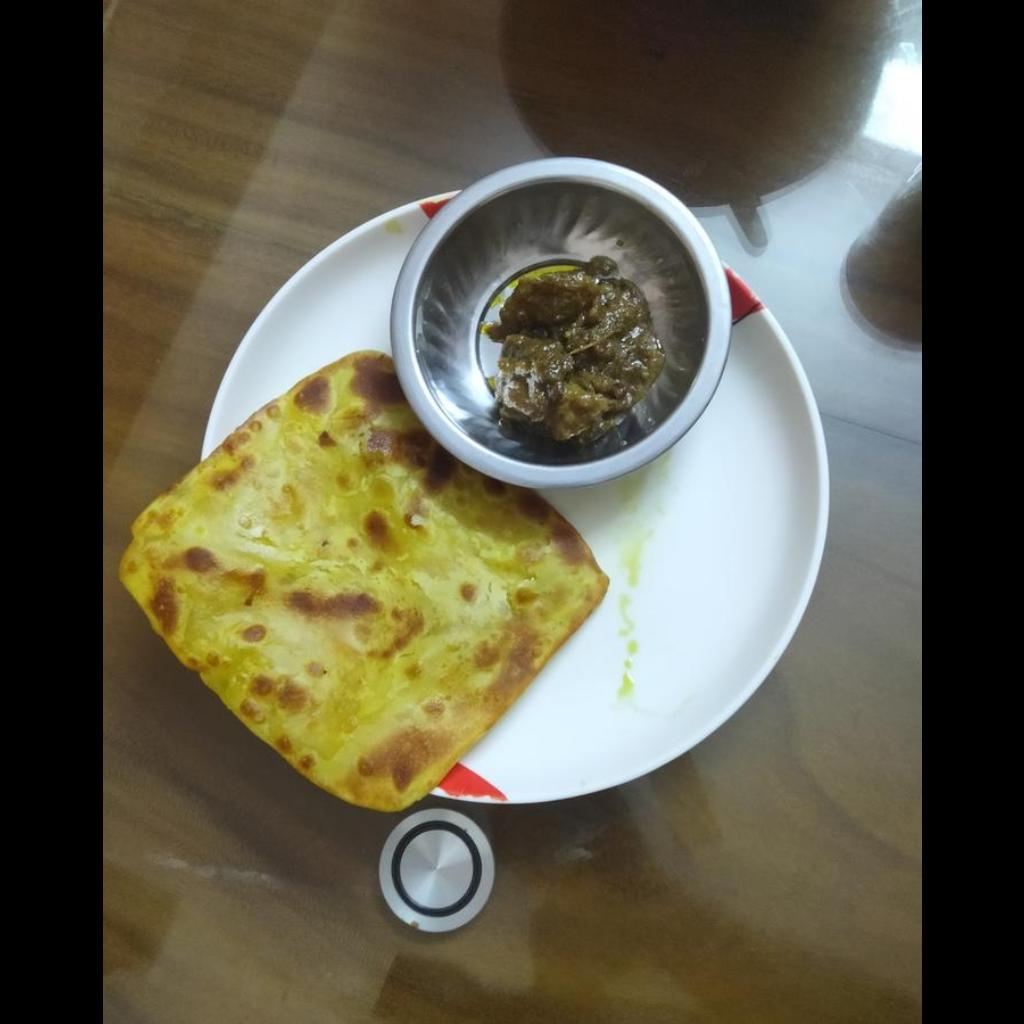beef: (492, 269, 660, 442)
ruti: (118, 350, 607, 813)
